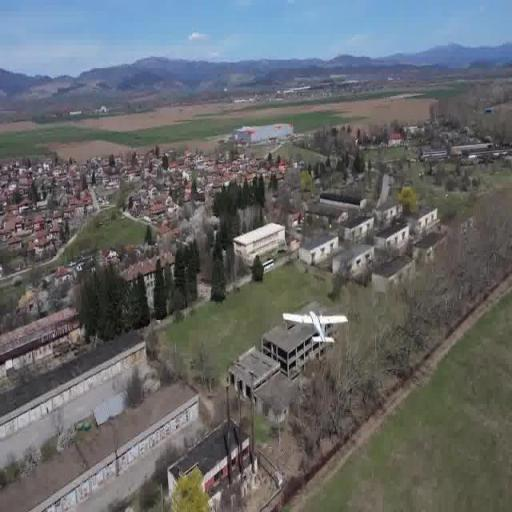uav: (282, 305, 351, 348)
